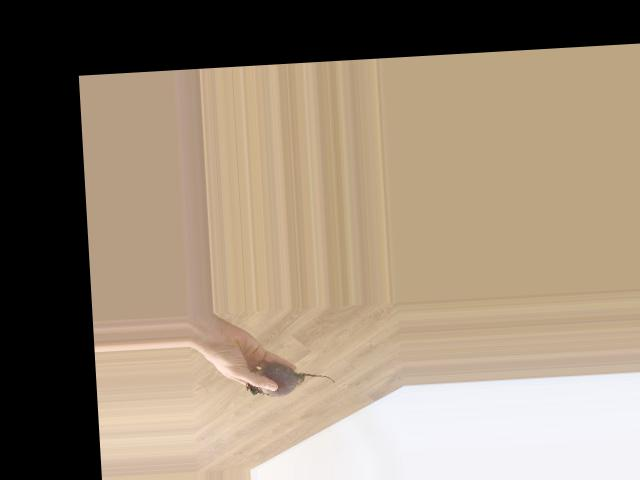beet: (245, 361, 336, 398)
